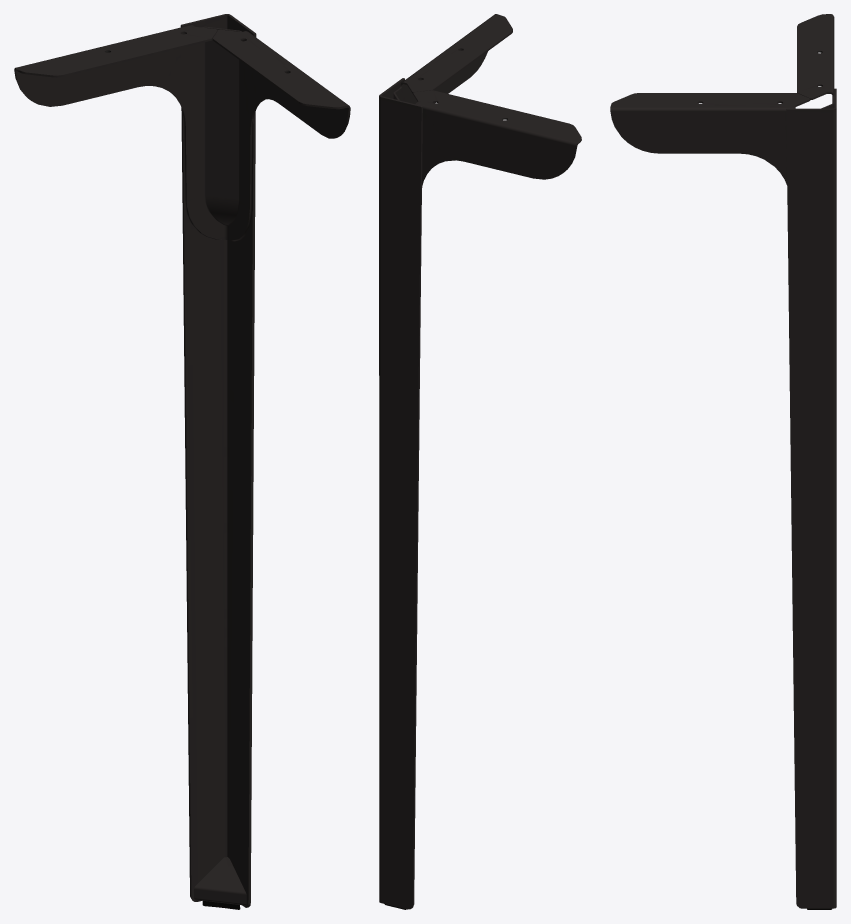
3 renders of one model, left to right at view 1: azimuth 30°, elevation 25°; view 2: azimuth 150°, elevation 25°; view 3: azimuth 270°, elevation 25°, orthographic. The views are drawn at different scales.
Visible parts, largest first — view 1: 50611654-SKÃƒâ€¦LSTA001; view 2: 50611654-SKÃƒâ€¦LSTA001; view 3: 50611654-SKÃƒâ€¦LSTA001.
Part boxes in pixels (<box>): 50611654-SKÃƒâ€¦LSTA001: <box>14,14,350,909</box>; 50611654-SKÃƒâ€¦LSTA001: <box>379,14,581,909</box>; 50611654-SKÃƒâ€¦LSTA001: <box>610,14,836,909</box>.
Bounding box in the file's own units: 0.182 × 0.712 × 0.182.
Materials: 1 (1 with a texture image).
